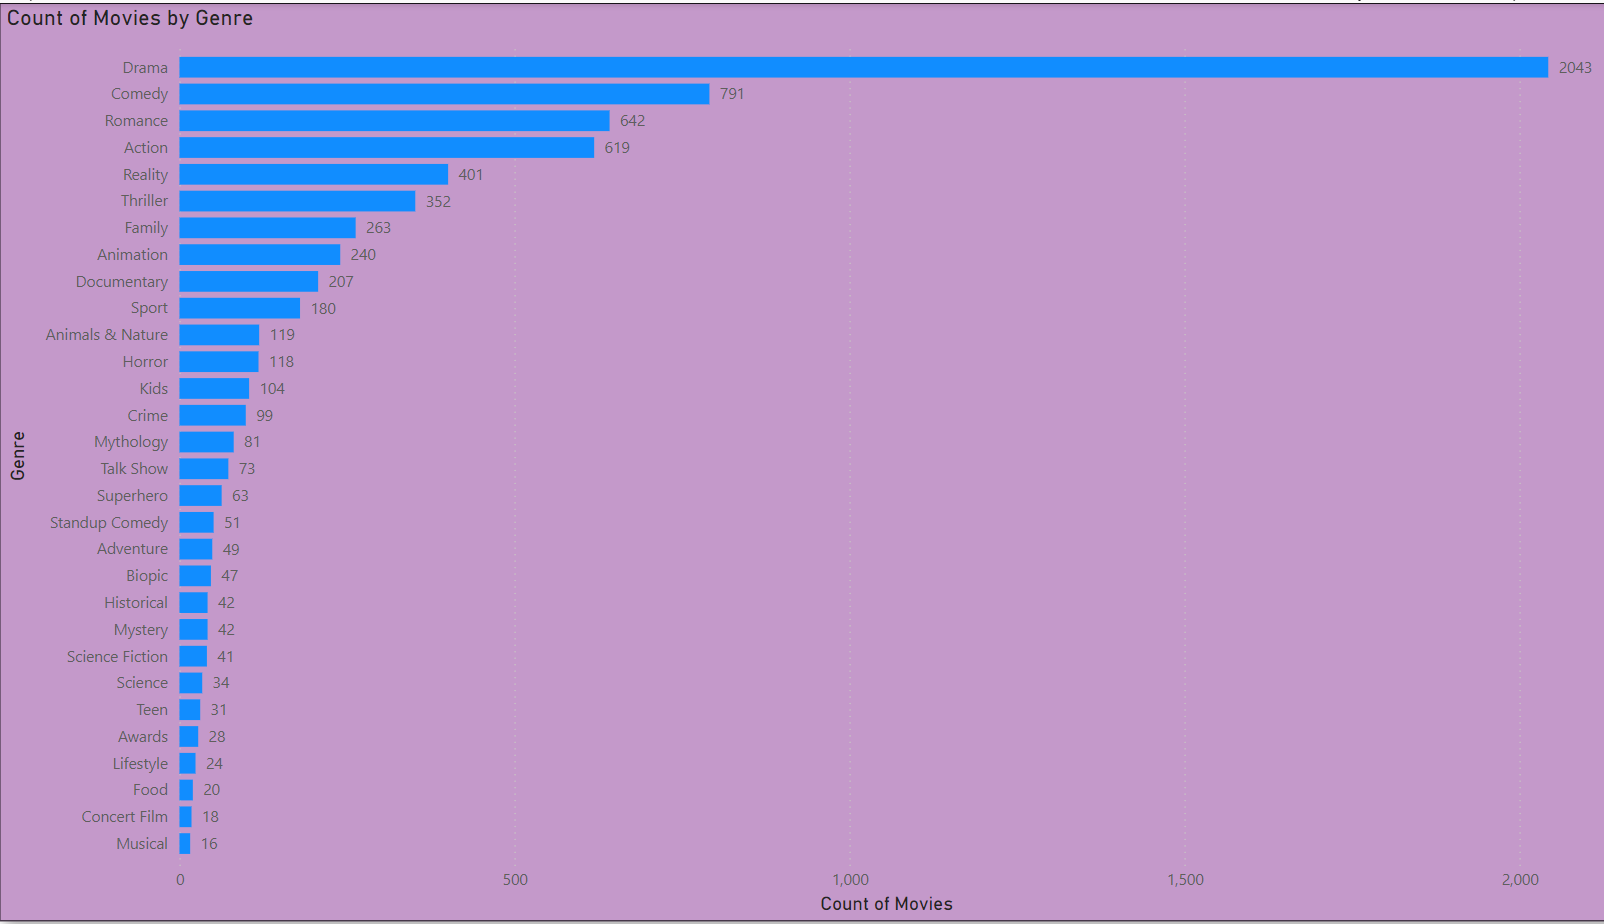

The page's visual inventory and layout, read from the dashboard file:
{"tool":"powerbi","page":{"name":" Distribution of Movies by Genre","canvas":[1280,720],"ordinal":0},"visuals":[{"type":"clusteredBarChart","fields":{"Category":["hotstar csv.genre"],"Y":["CountNonNull(hotstar csv.Title)"]},"box":[10.4,0,1260.7,709.1],"z":0}]}

Visuals, with their boxes in screenshot pixels (x1, y1, x2, y2), scaled from the page's 1280x720 canvas onto the 1604x924 screenshot:
clusteredBarChart - hotstar csv.genre x CountNonNull(hotstar csv.Title): 13 0 1593 910
